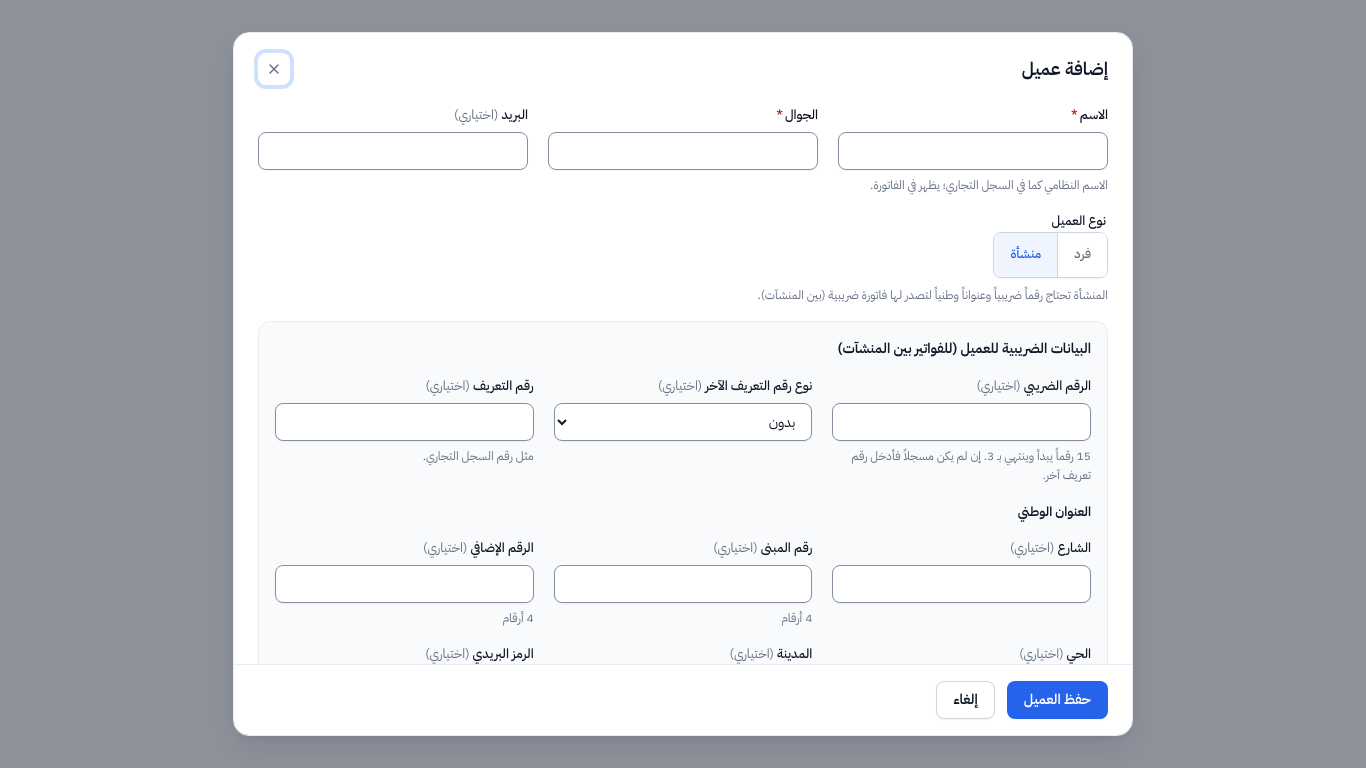
customer dialog: business (B2B) data › checks the VAT number format before sending anything
Type "شركة الأمل" into the field labelled "الاسم*" at (973, 151), box [838,132,1108,170]
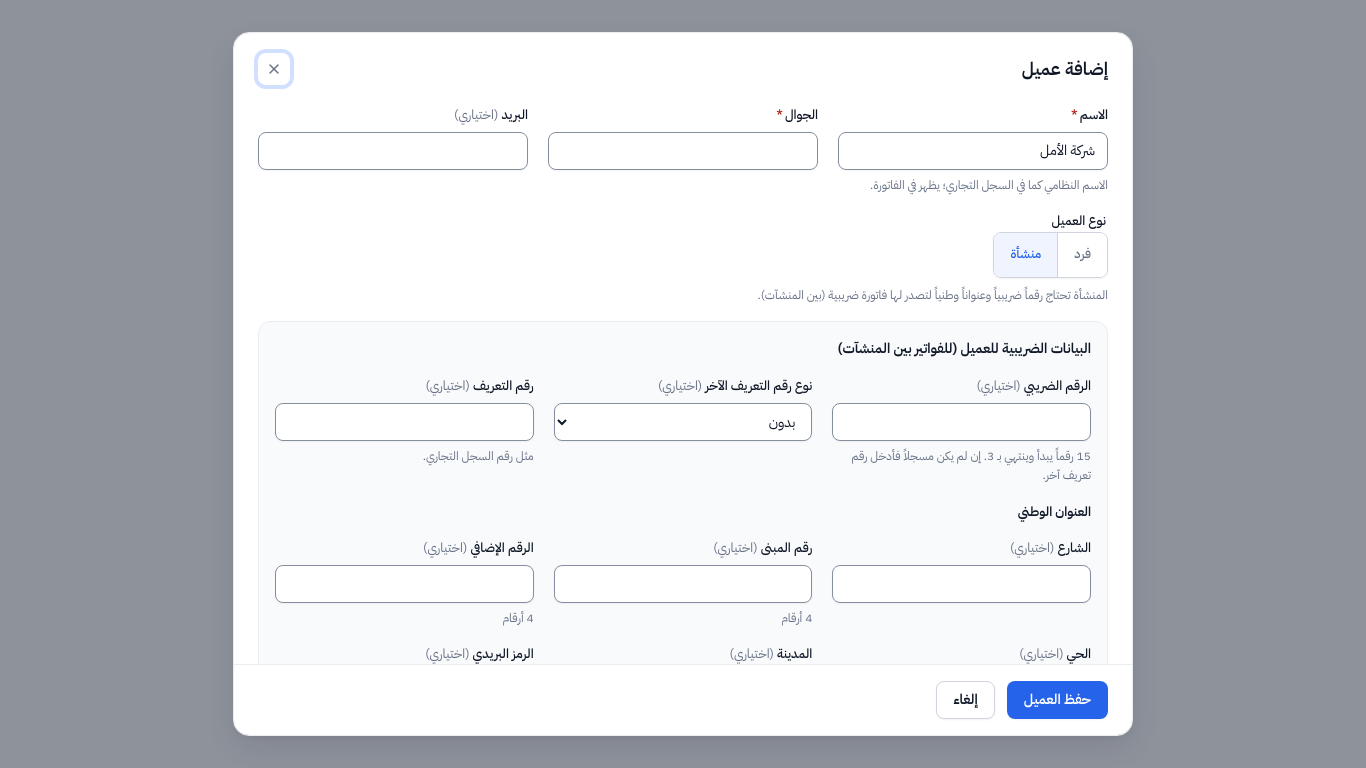
Type "0501234567" into the field labelled "الجوال*" at (683, 151), box [548,132,818,170]
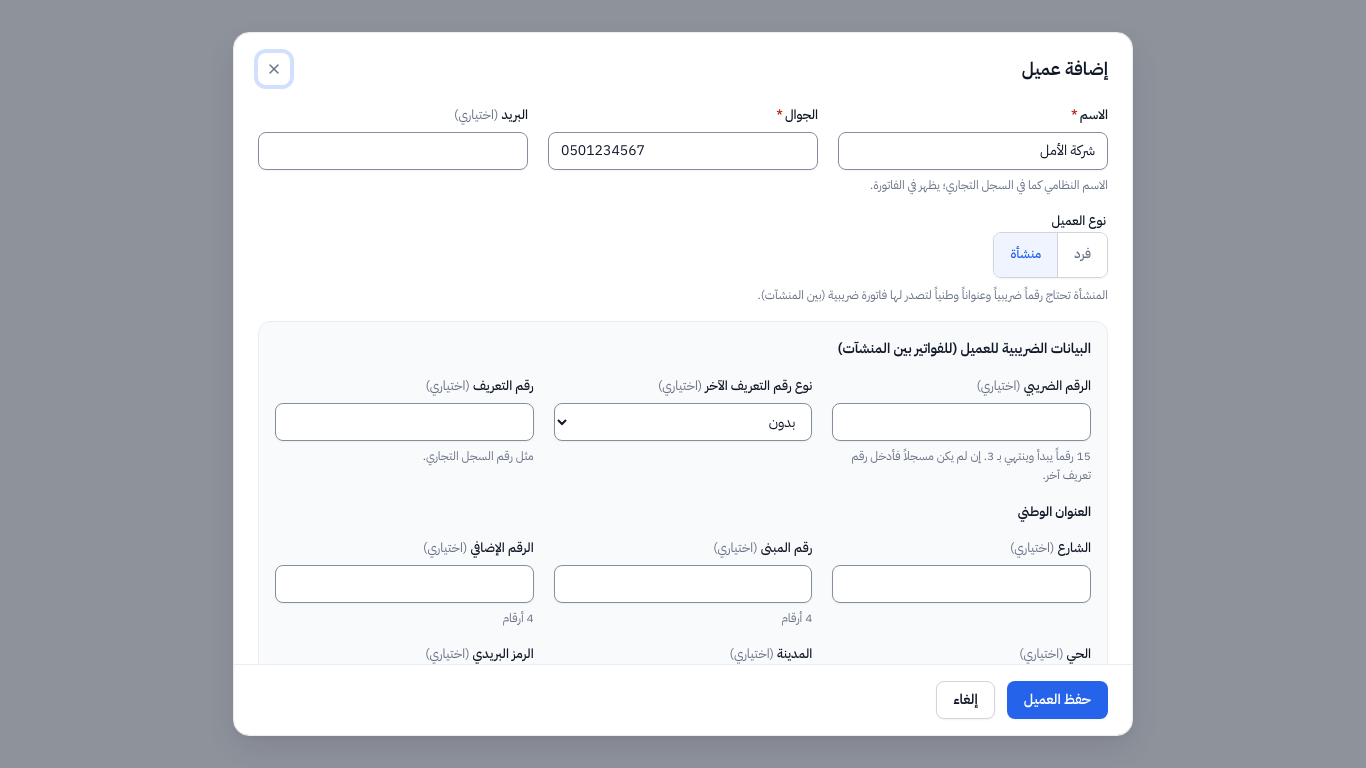
Type "123" into the field labelled "الرقم الضريبي (اختياري)" at (962, 422), box [832,403,1091,441]
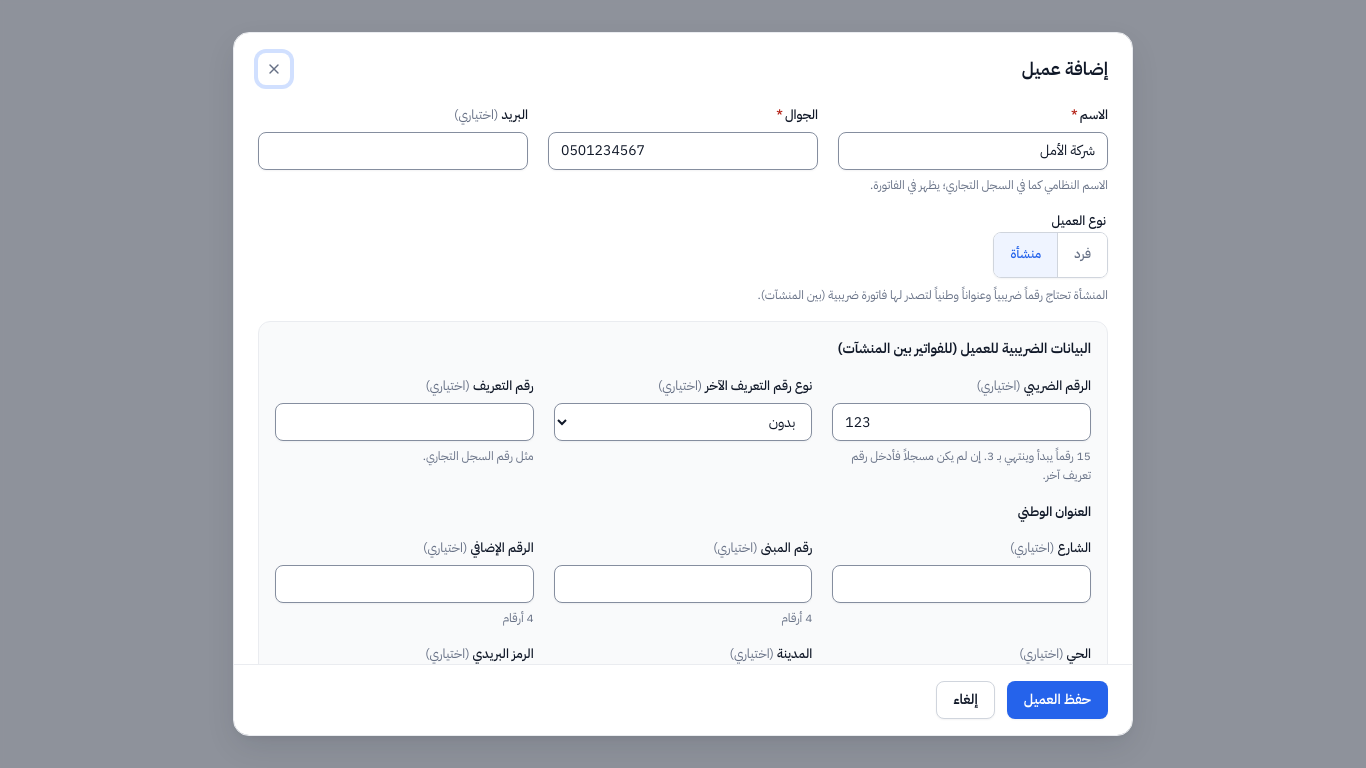
Click the button "حفظ العميل" at (1057, 700), box [1007,681,1108,719]
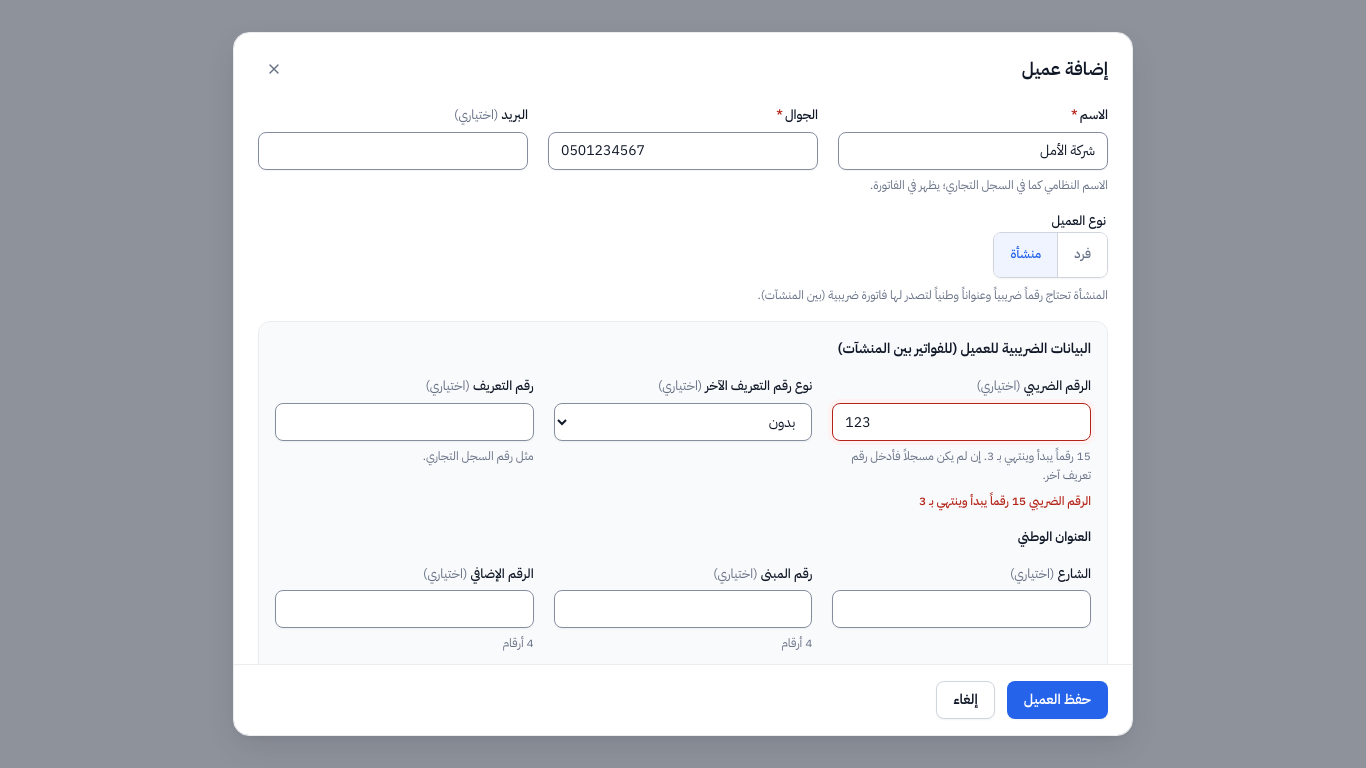
Now the text "الرقم الضريبي 15 رقماً يبدأ وينتهي بـ 3" is shown, box [919,492,1091,510]
